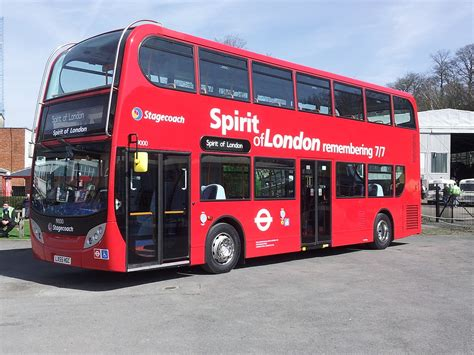bus: (28, 27, 423, 271)
